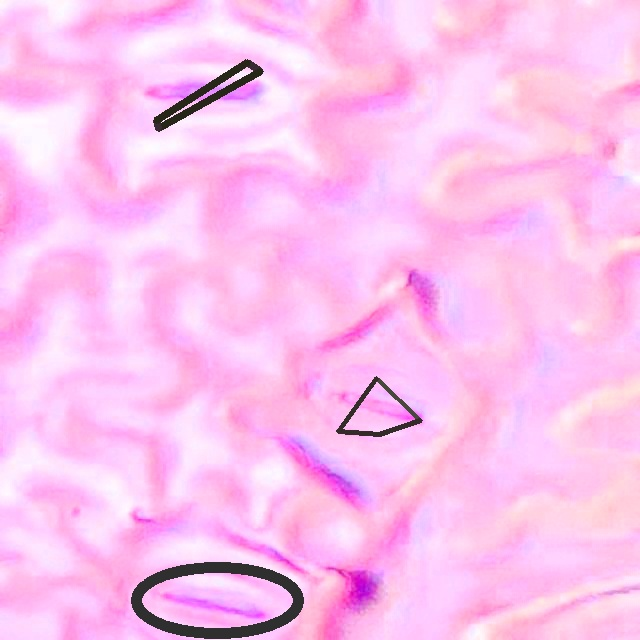open: (131, 562, 304, 639), (153, 60, 262, 131), (337, 376, 422, 435)
